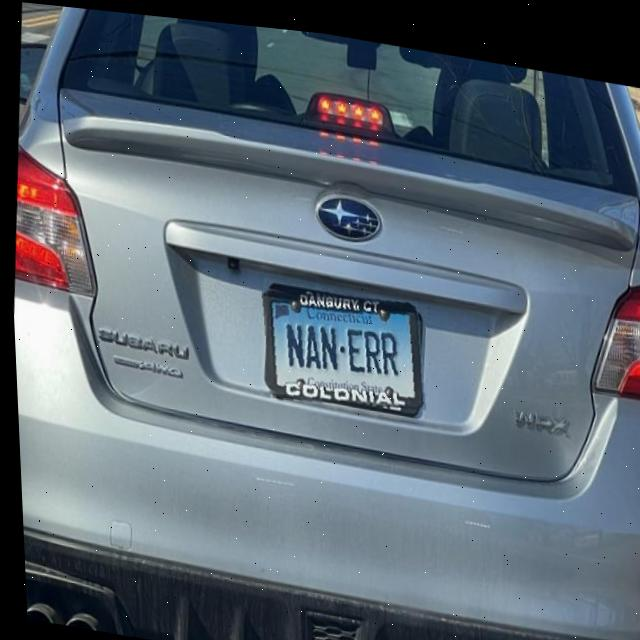LicensePlate: (260, 285, 421, 401)
